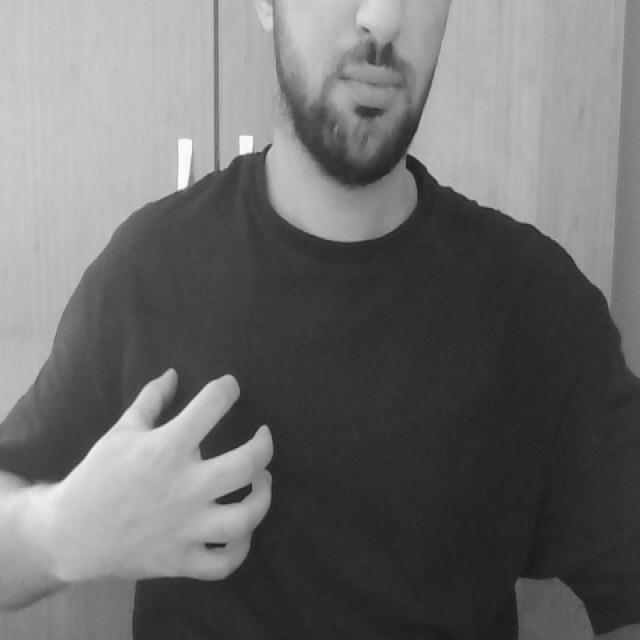Anne: (95, 358, 287, 596)
